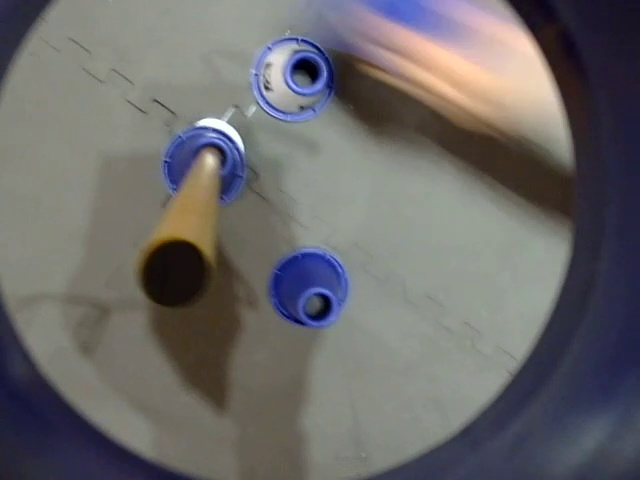tip: (138, 234, 208, 311)
